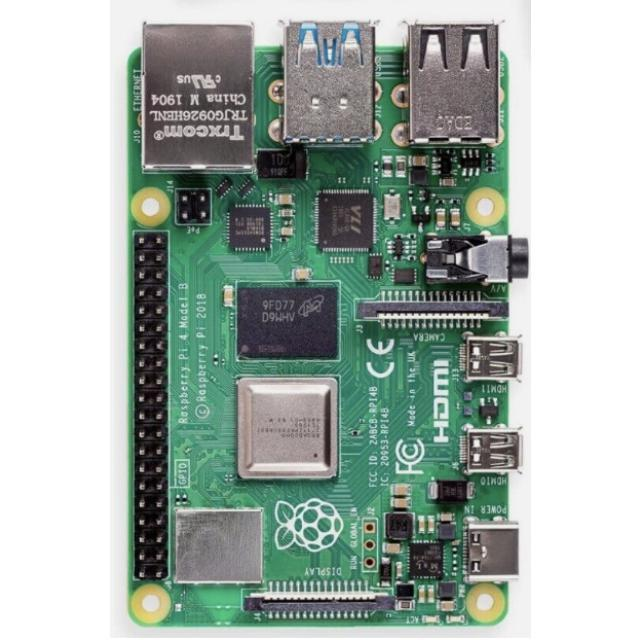Raspberry-Pi-4-B: (130, 21, 528, 626)
